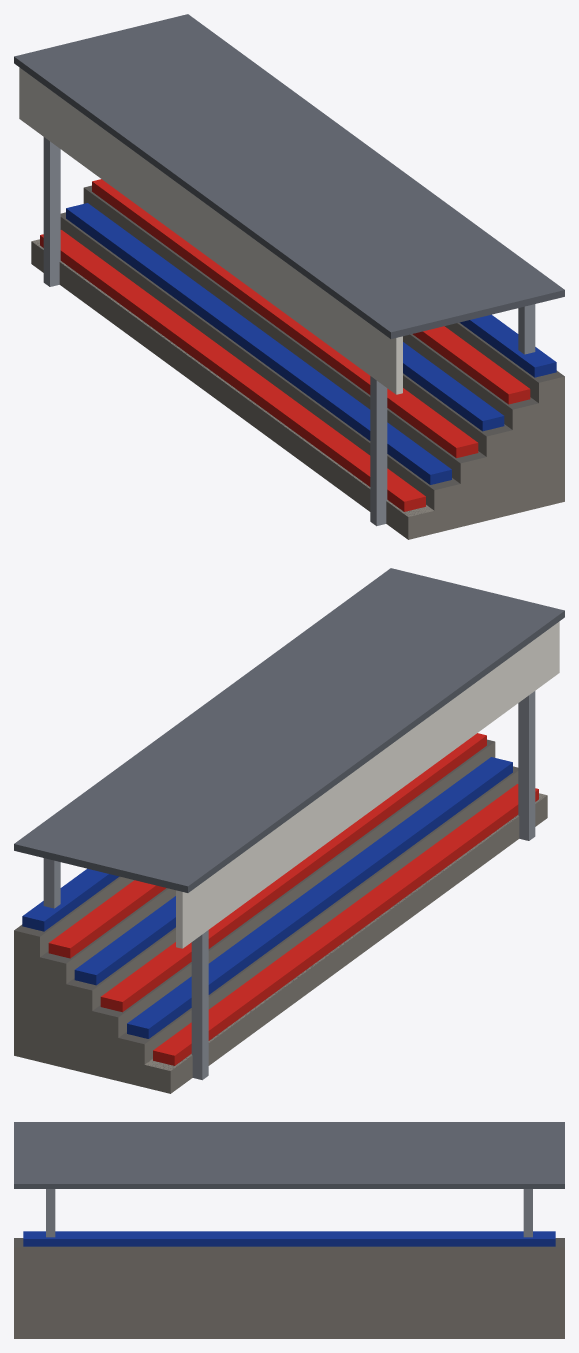
Rendered from estadio_tribuna.obj.
The picture shows the model from 3 angles, top to bottom: view 1: azimuth 30°, elevation 25°; view 2: azimuth 150°, elevation 25°; view 3: azimuth 270°, elevation 25°; orthographic projection. The views are drawn at different scales.
Visible parts, largest first — view 1: estadio_tribuna; view 2: estadio_tribuna; view 3: estadio_tribuna.
Part boxes in pixels (box(x1,y1,x2,y2)): estadio_tribuna: box(14, 14, 564, 539); estadio_tribuna: box(14, 568, 564, 1093); estadio_tribuna: box(14, 1122, 564, 1338).
Size of the model in its own units: 8 by 9.3 by 30.
